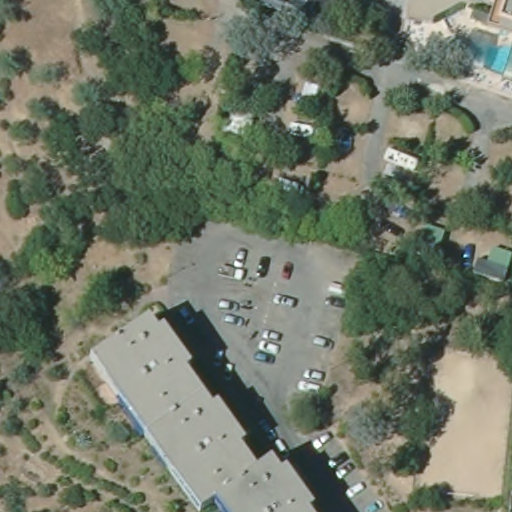pool: (457, 28, 512, 74)
